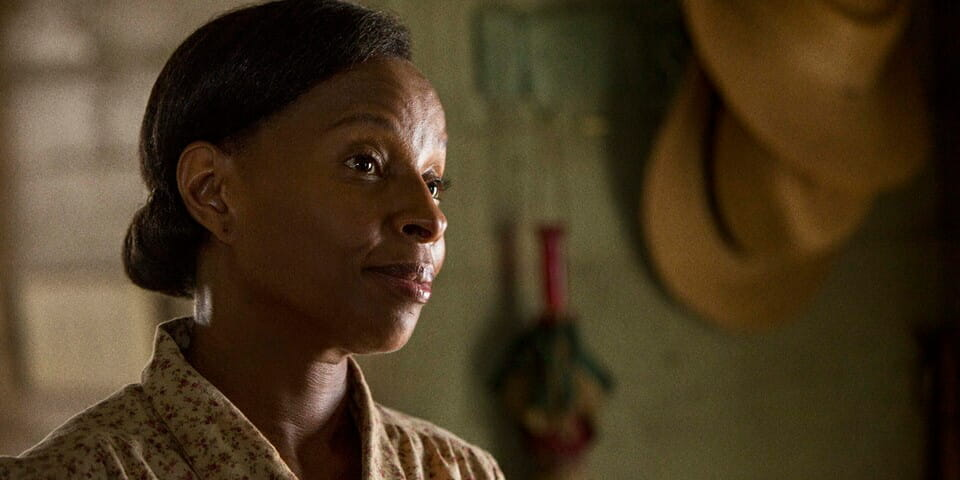bare: (265, 202, 464, 353)
